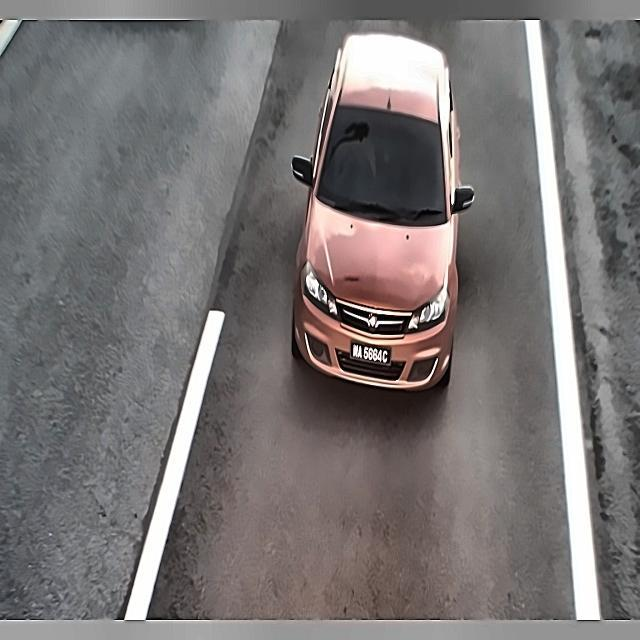car: (346, 335, 394, 370)
